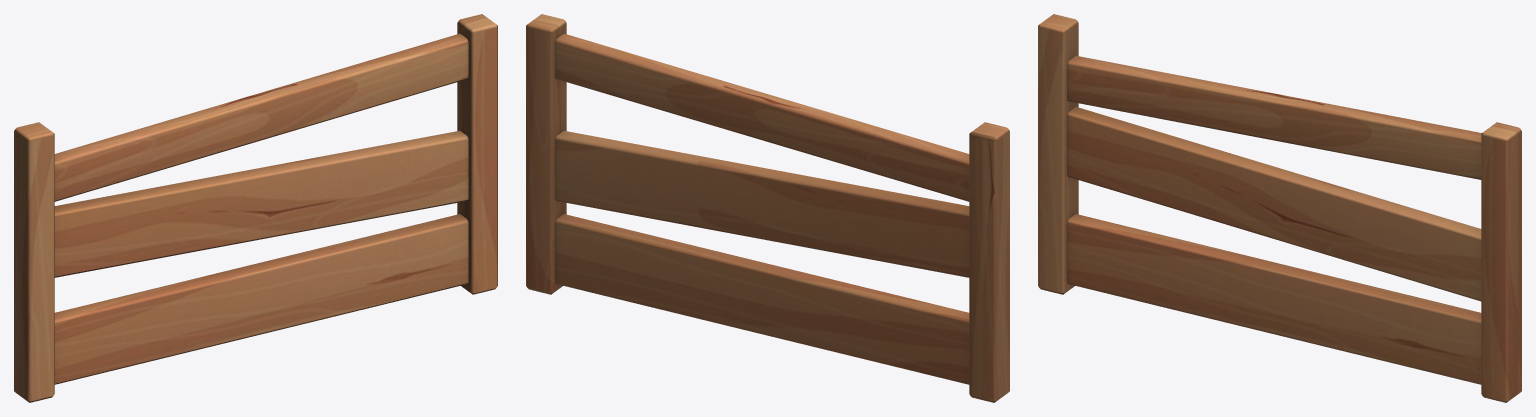
The picture shows the model from 3 angles, left to right: view 1: azimuth 30°, elevation 25°; view 2: azimuth 150°, elevation 25°; view 3: azimuth 330°, elevation 25°; orthographic projection.
Visible parts, largest first — view 1: ZHALAN__5_; view 2: ZHALAN__5_; view 3: ZHALAN__5_.
Boxes of the visible parts, x1=… form: ZHALAN__5_: x1=14, y1=14, x2=497, y2=402; ZHALAN__5_: x1=526, y1=14, x2=1009, y2=402; ZHALAN__5_: x1=1038, y1=14, x2=1521, y2=402.
Bounding box in the file's own units: 2.61 × 1.41 × 0.1541.
Materials: 1 (1 with a texture image).
